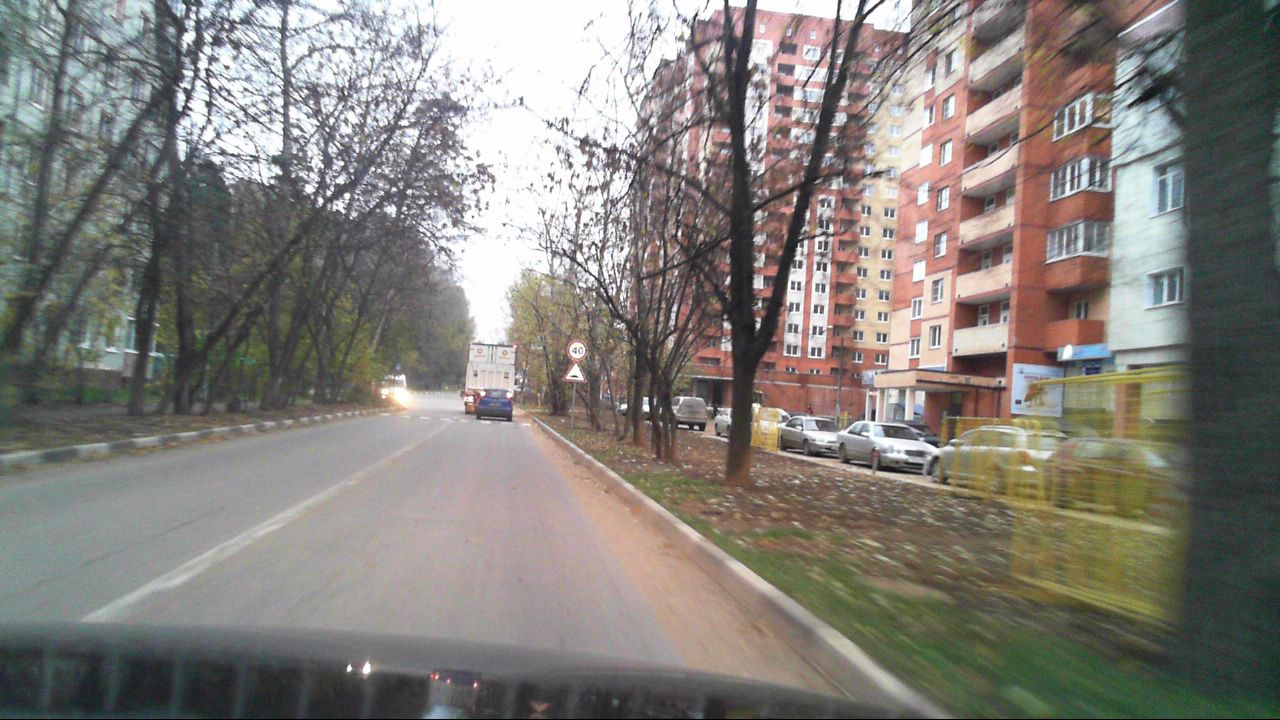speed_warning_40: (566, 339, 587, 361)
